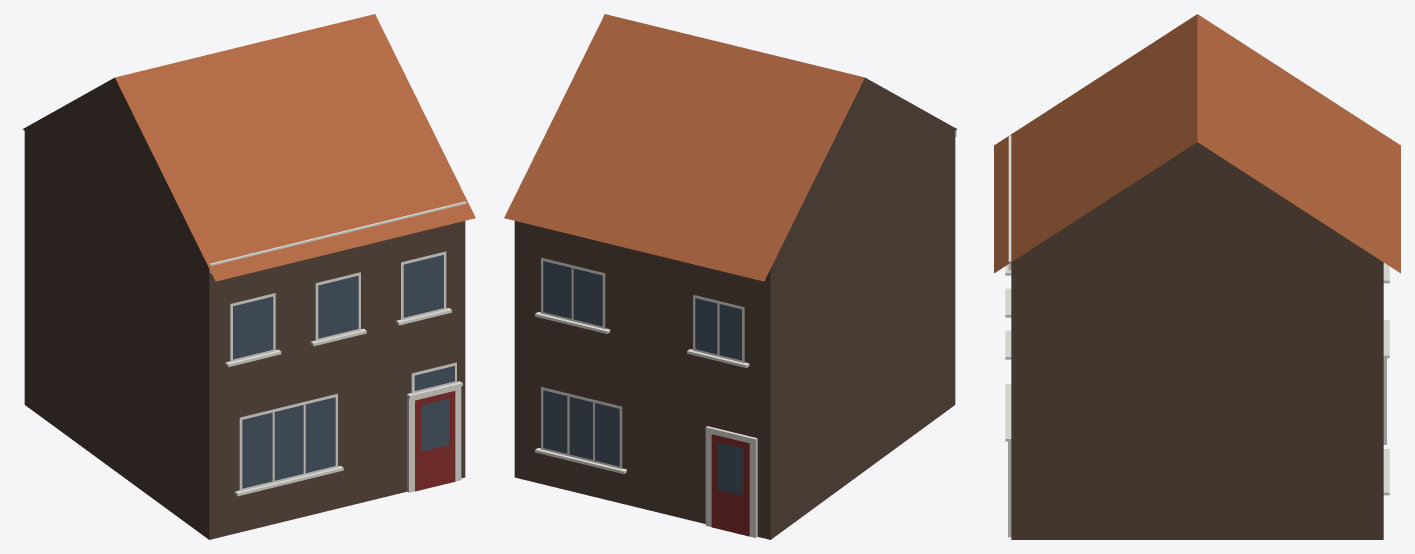
The model's file is nd-to-row__triple-orange__2__gable__long__solid__f1d0__mirror.glb.
3 views of the same model, side by side, from view 1: azimuth 30°, elevation 25°; view 2: azimuth 150°, elevation 25°; view 3: azimuth 270°, elevation 25° (orthographic).
Visible parts, largest first — view 1: nd-to-row__triple-orange__2__gable__long__solid__f1d0__mirro; view 2: nd-to-row__triple-orange__2__gable__long__solid__f1d0__mirro; view 3: nd-to-row__triple-orange__2__gable__long__solid__f1d0__mirro.
Boxes of the visible parts, bbox=[...] form: nd-to-row__triple-orange__2__gable__long__solid__f1d0__mirro: bbox=[23, 14, 475, 539]; nd-to-row__triple-orange__2__gable__long__solid__f1d0__mirro: bbox=[504, 14, 956, 539]; nd-to-row__triple-orange__2__gable__long__solid__f1d0__mirro: bbox=[994, 14, 1400, 539].
Size of the model in its own units: 6.13 by 8.91 by 8.23.
